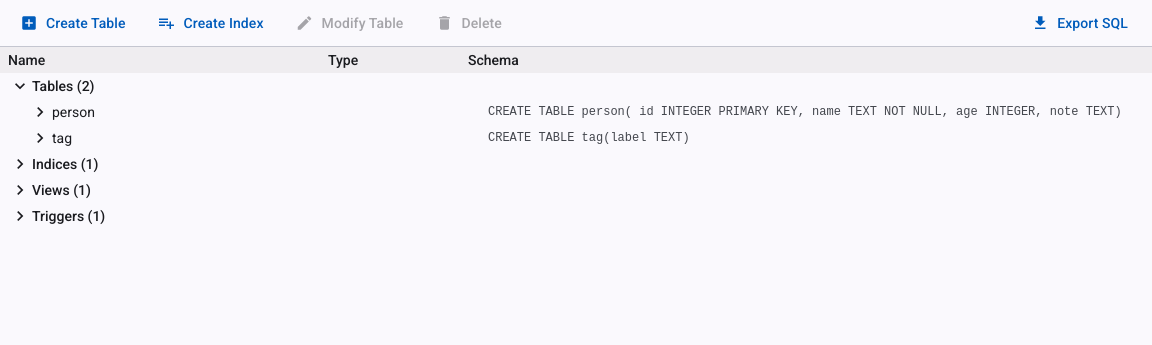
Test: StructureComponent › shows the columns of a table with their types and definitions
Step 1. Click the 2nd button with class "toggle" → {"x": 40, "y": 112}, box [28,100,52,124]
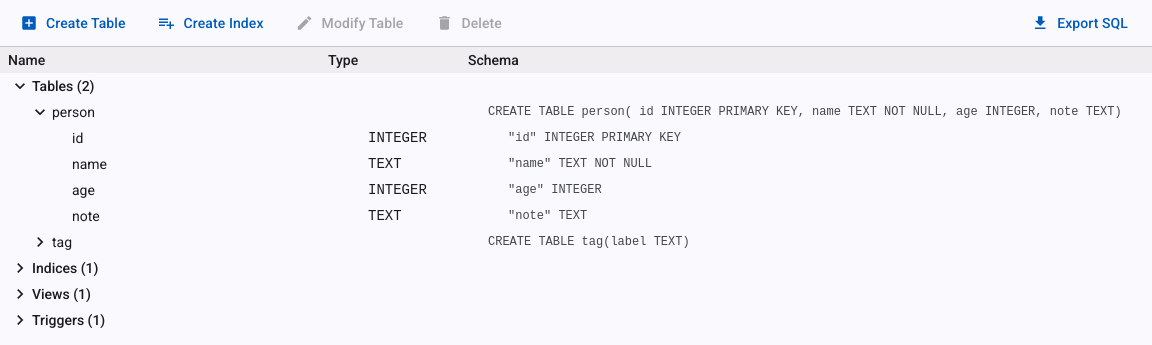
Check: the text with class "type" next to "\"name\" TEXT NOT NULL" reads "TEXT", box [368,156,402,172]
Check: the text "\"name\" TEXT NOT NULL" is shown, box [508,157,652,171]
Check: the text "\"id\" INTEGER PRIMARY KEY" is shown, box [508,131,681,145]
